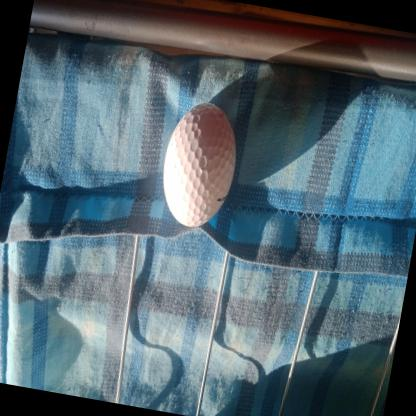Golf: (150, 93, 245, 235)
